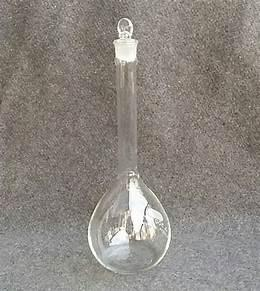Volumetric flask: (84, 14, 175, 272)
